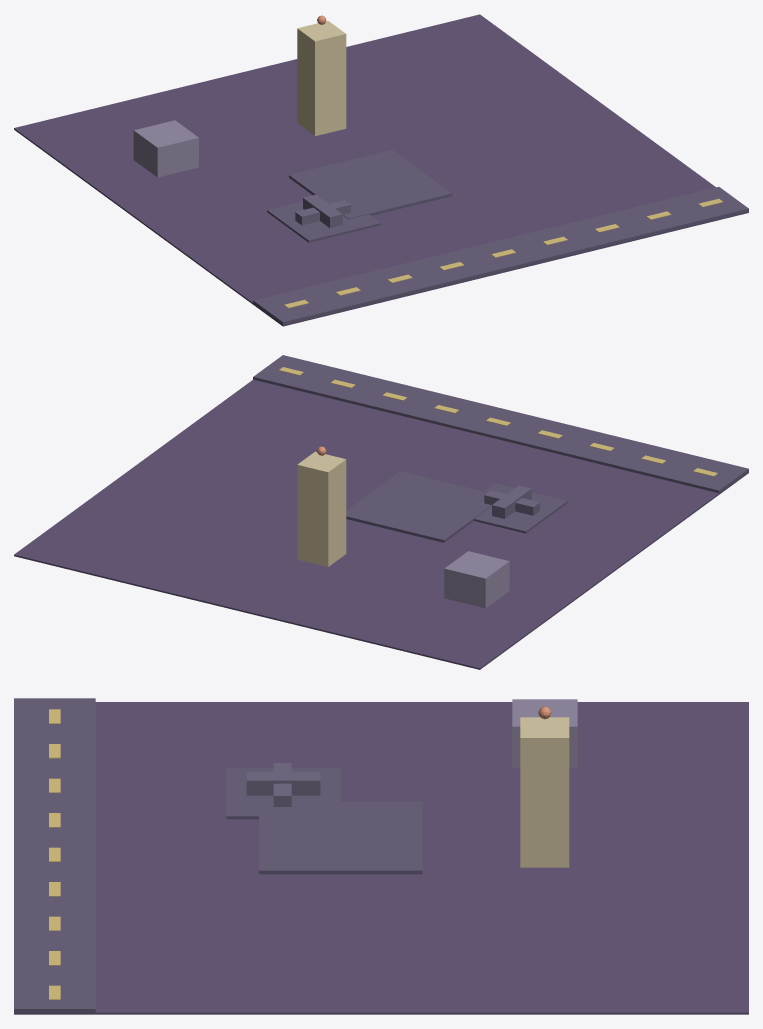
The model's file is stage_04.glb.
3 renders of one model, top to bottom at view 1: azimuth 30°, elevation 25°; view 2: azimuth 150°, elevation 25°; view 3: azimuth 270°, elevation 25°, orthographic. The views are drawn at different scales.
Parts seen in each view (by area): view 1: geometry_0; view 2: geometry_0; view 3: geometry_0.
Boxes of the visible parts, left/top/right/bottom form: geometry_0: left=14, top=14, right=748, bottom=326; geometry_0: left=14, top=355, right=748, bottom=669; geometry_0: left=14, top=698, right=748, bottom=1014.
Size of the model in its own units: 9 by 2.06 by 9.
